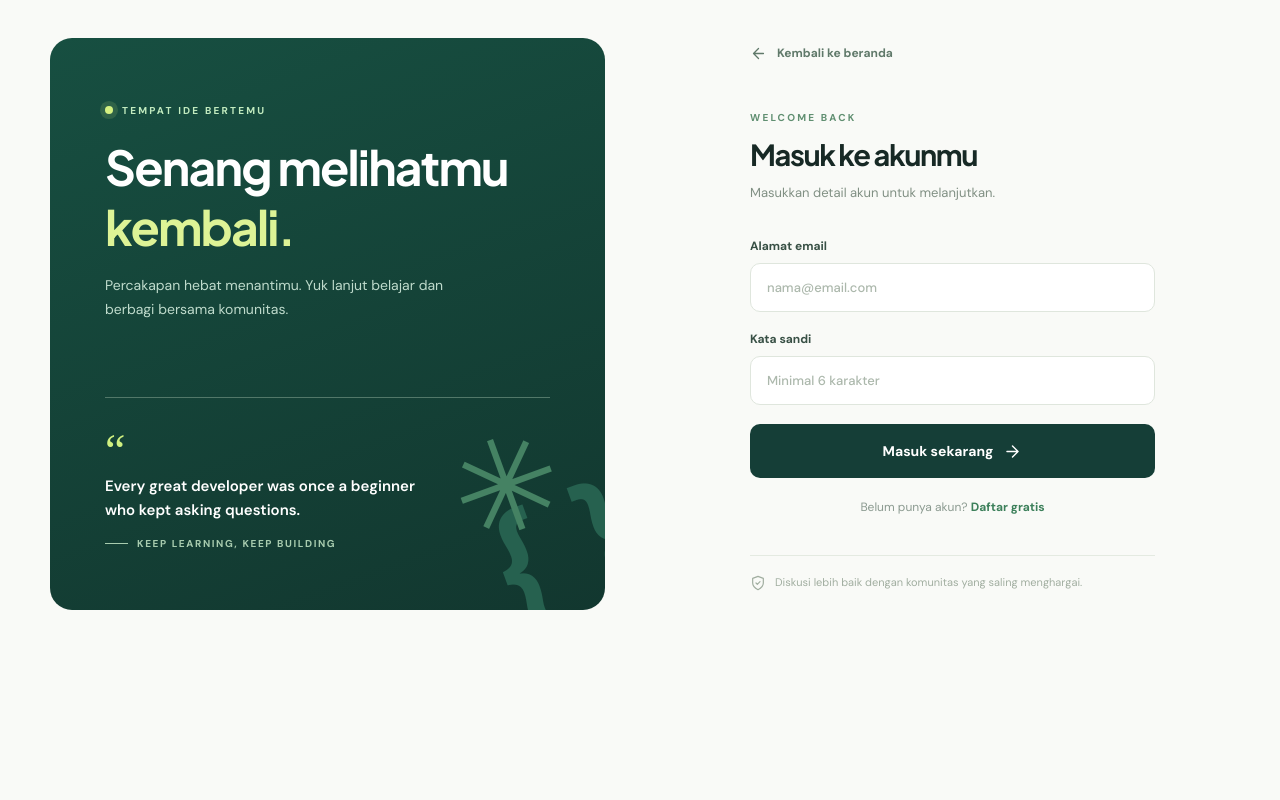
Test: AuthPage component › should display the server error message when login fails
Step 1. Type "dicoding@mail.com" into the field with placeholder "nama@email.com" → (952, 288), box [750,263,1155,312]
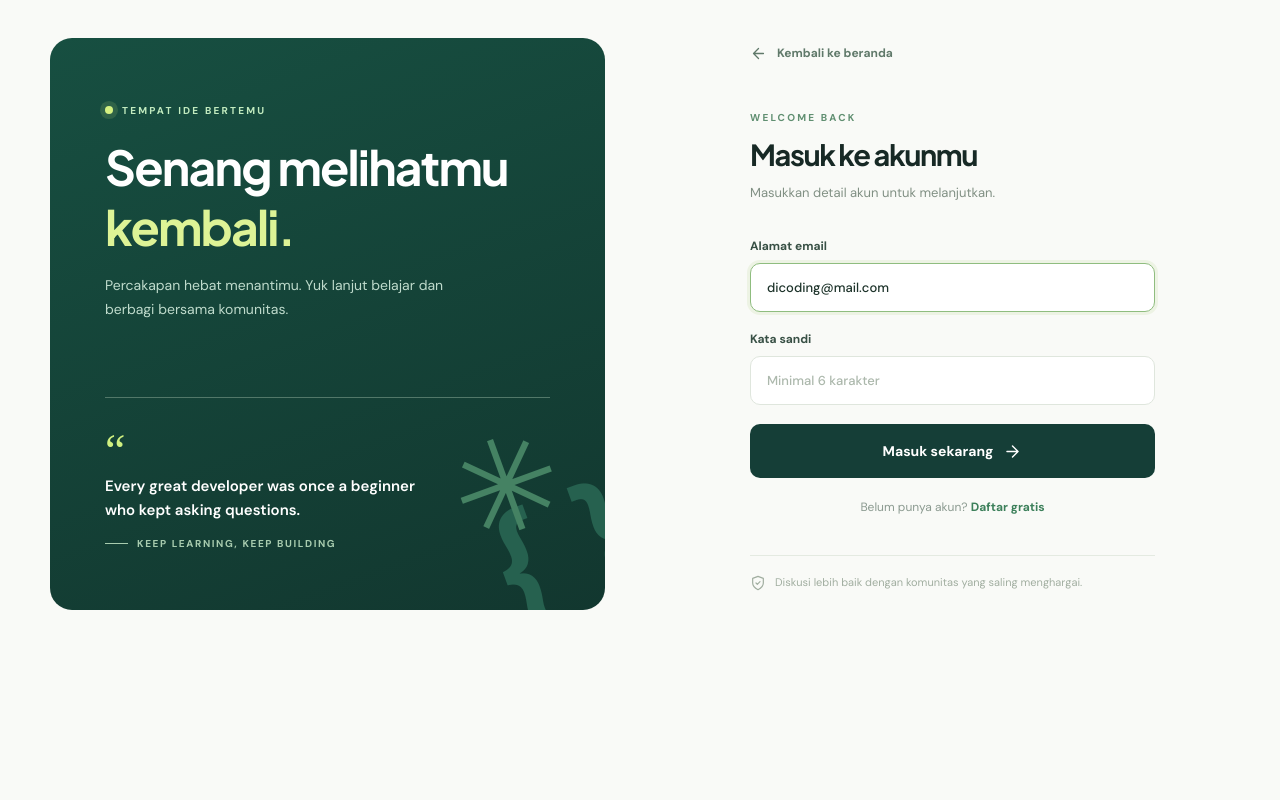
Step 2. Type "salah123" into the password field with placeholder "Minimal 6 karakter" → (952, 380), box [750,356,1155,405]
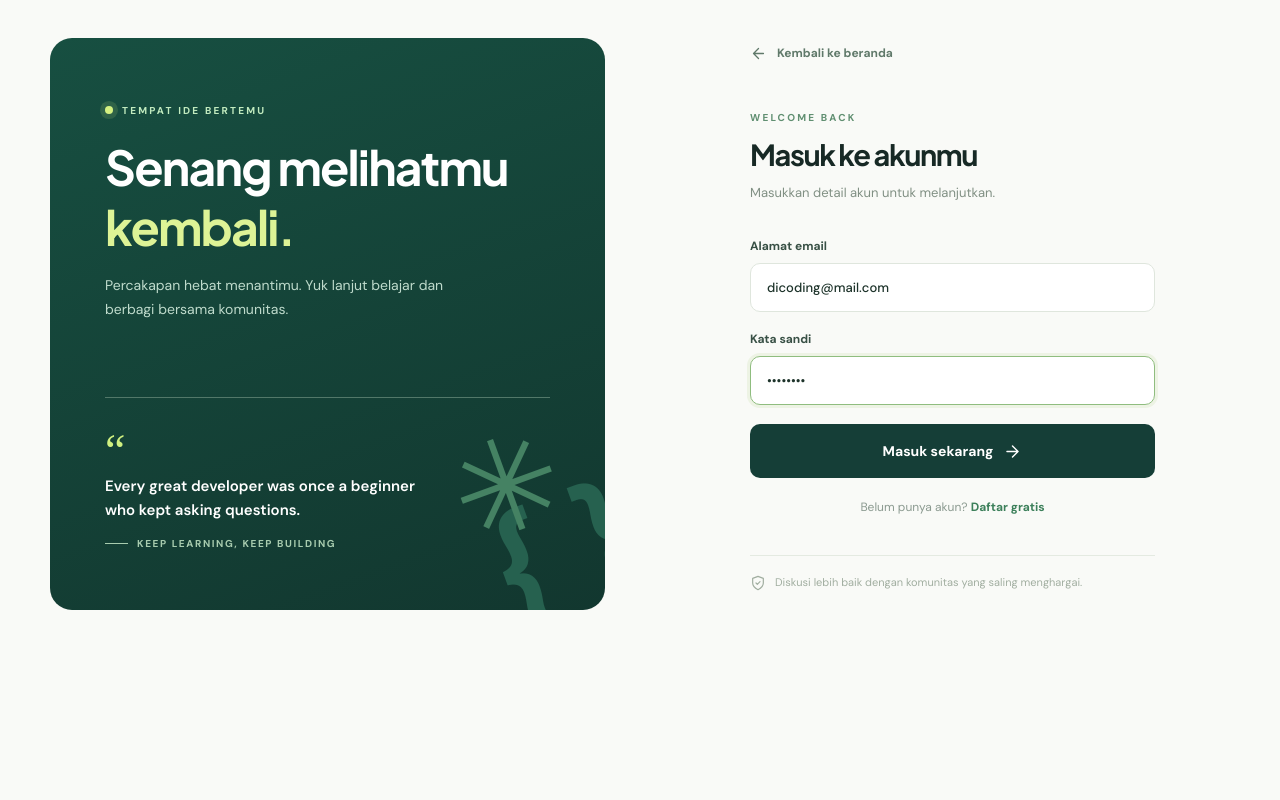
Step 3. Click the button "Masuk sekarang" → (952, 451), box [750,424,1155,478]
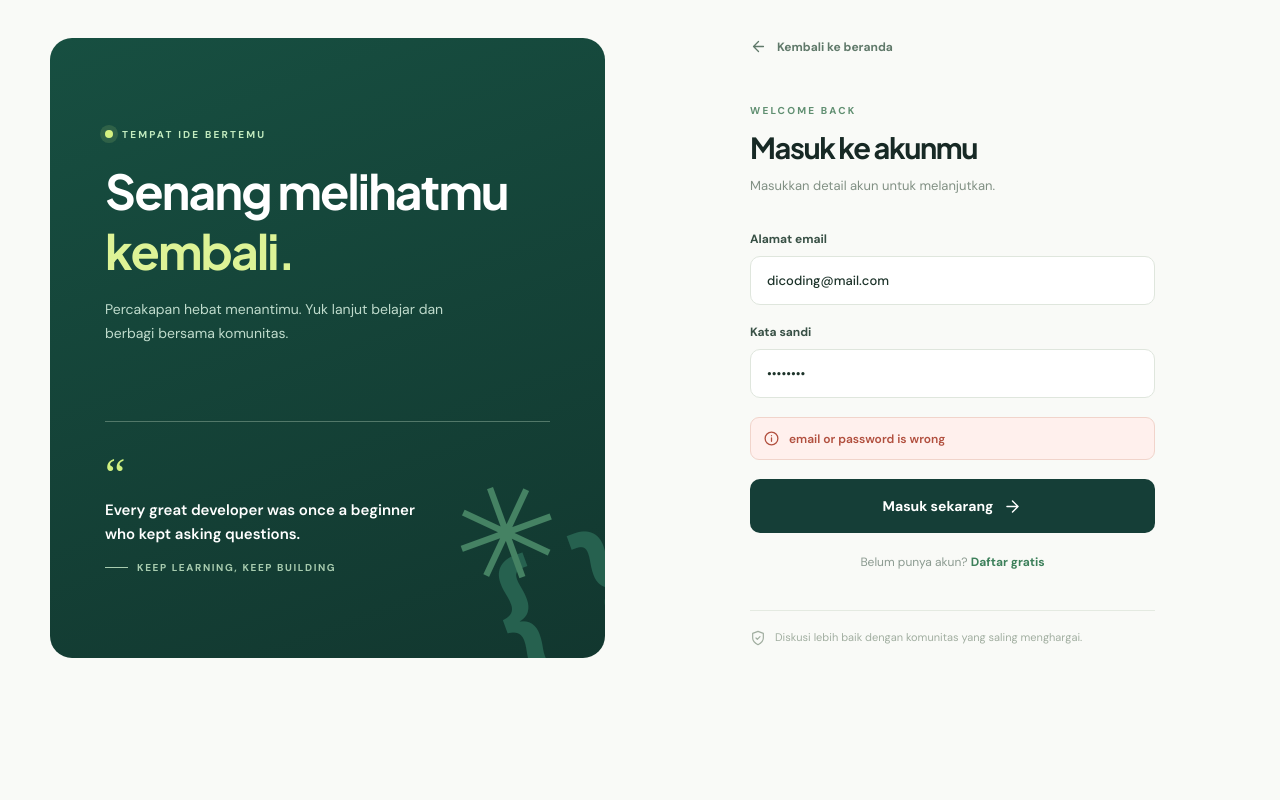
Check: the message reads "email or password is wrong", box [789,431,945,447]
